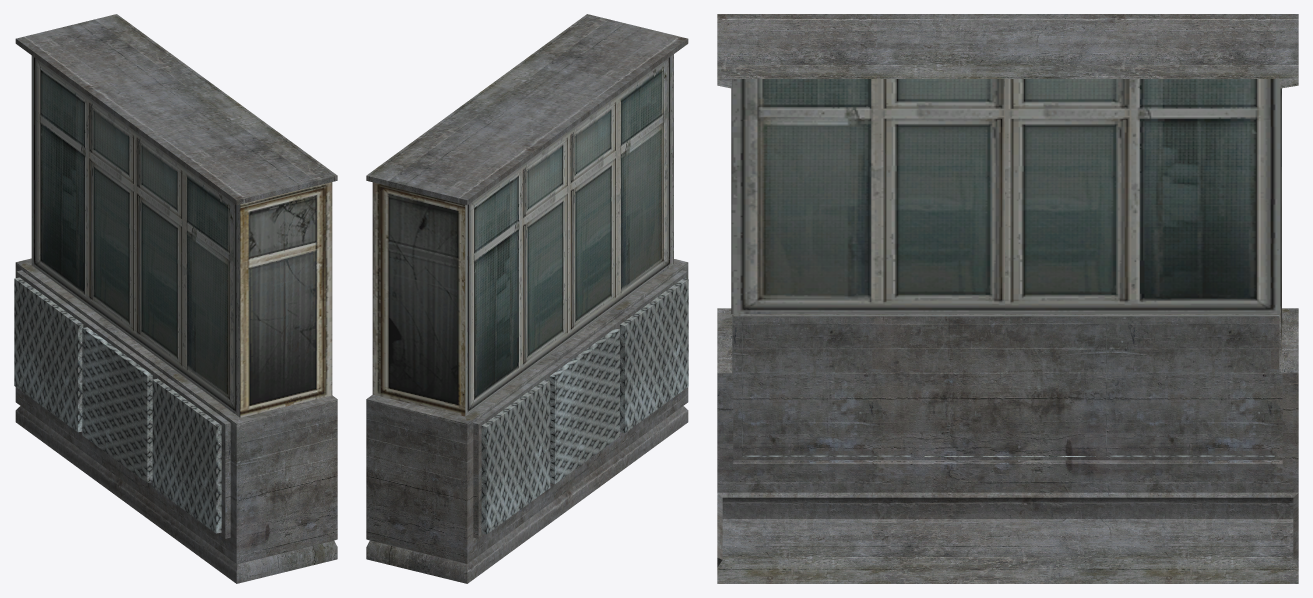
Rendered from civ_balcony_a.FBX.
3 renders of one model, left to right at view 1: azimuth 30°, elevation 25°; view 2: azimuth 150°, elevation 25°; view 3: azimuth 270°, elevation 25°, orthographic. The views are drawn at different scales.
Visible parts, largest first — view 1: civ_balcony_a; view 2: civ_balcony_a; view 3: civ_balcony_a.
Part boxes in pixels (bbox=[...]): civ_balcony_a: bbox=[14, 14, 337, 583]; civ_balcony_a: bbox=[366, 14, 688, 583]; civ_balcony_a: bbox=[717, 14, 1298, 583].
Size of the model in its own units: 87.48 by 288 by 300.
